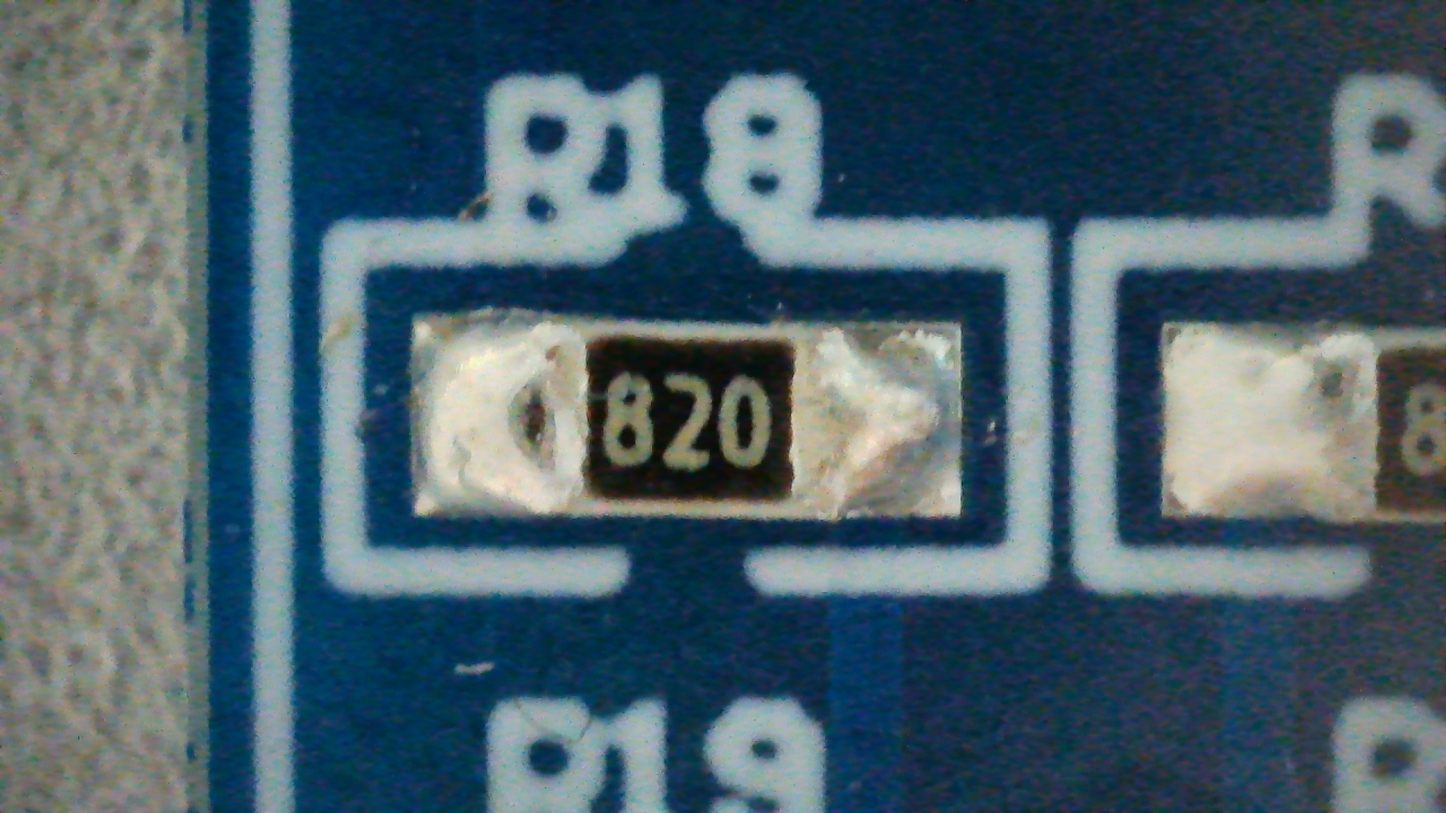OK: (415, 308, 962, 517)
